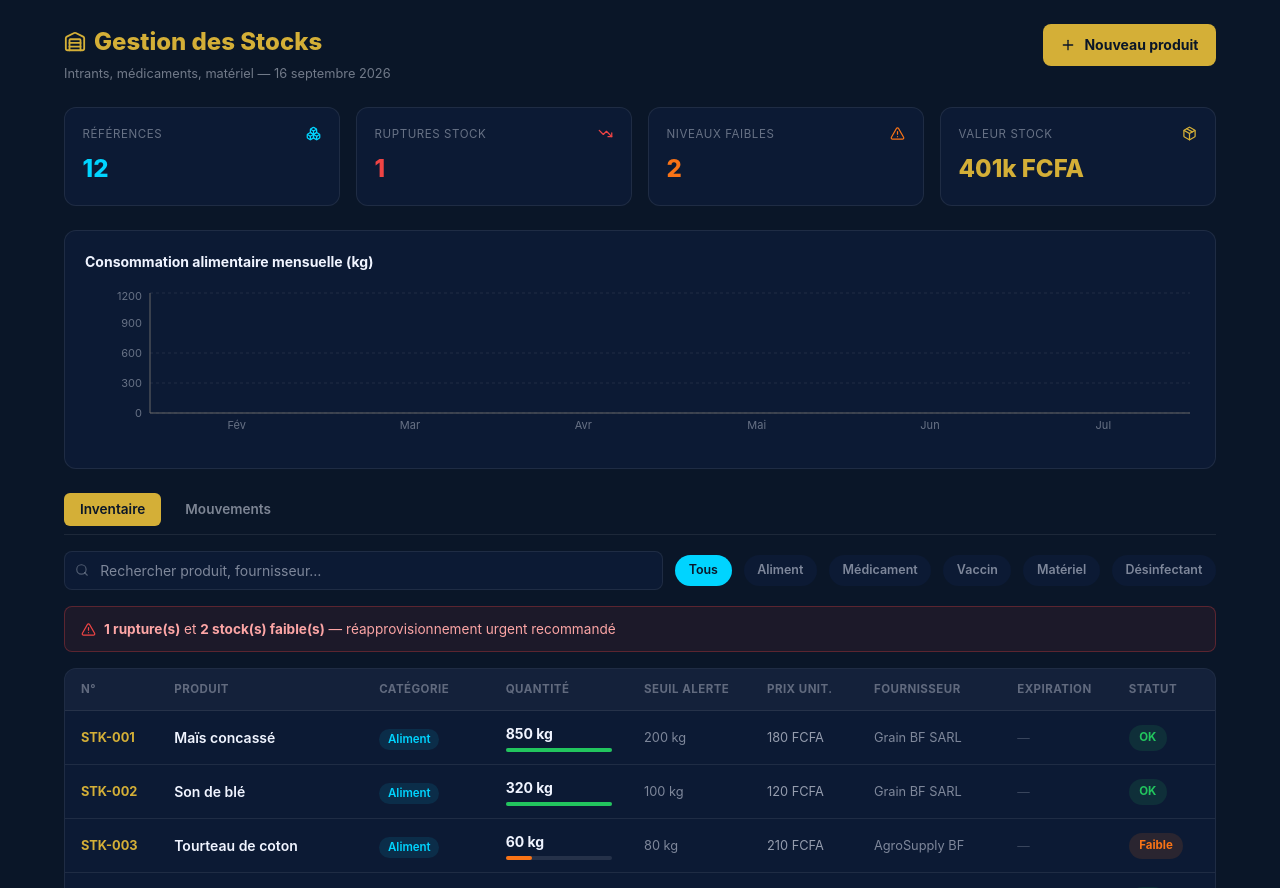
StocksPage › le filtre Vaccin affiche seulement les vaccins
Click the button "Vaccin" at (977, 570), box [943,555,1011,586]
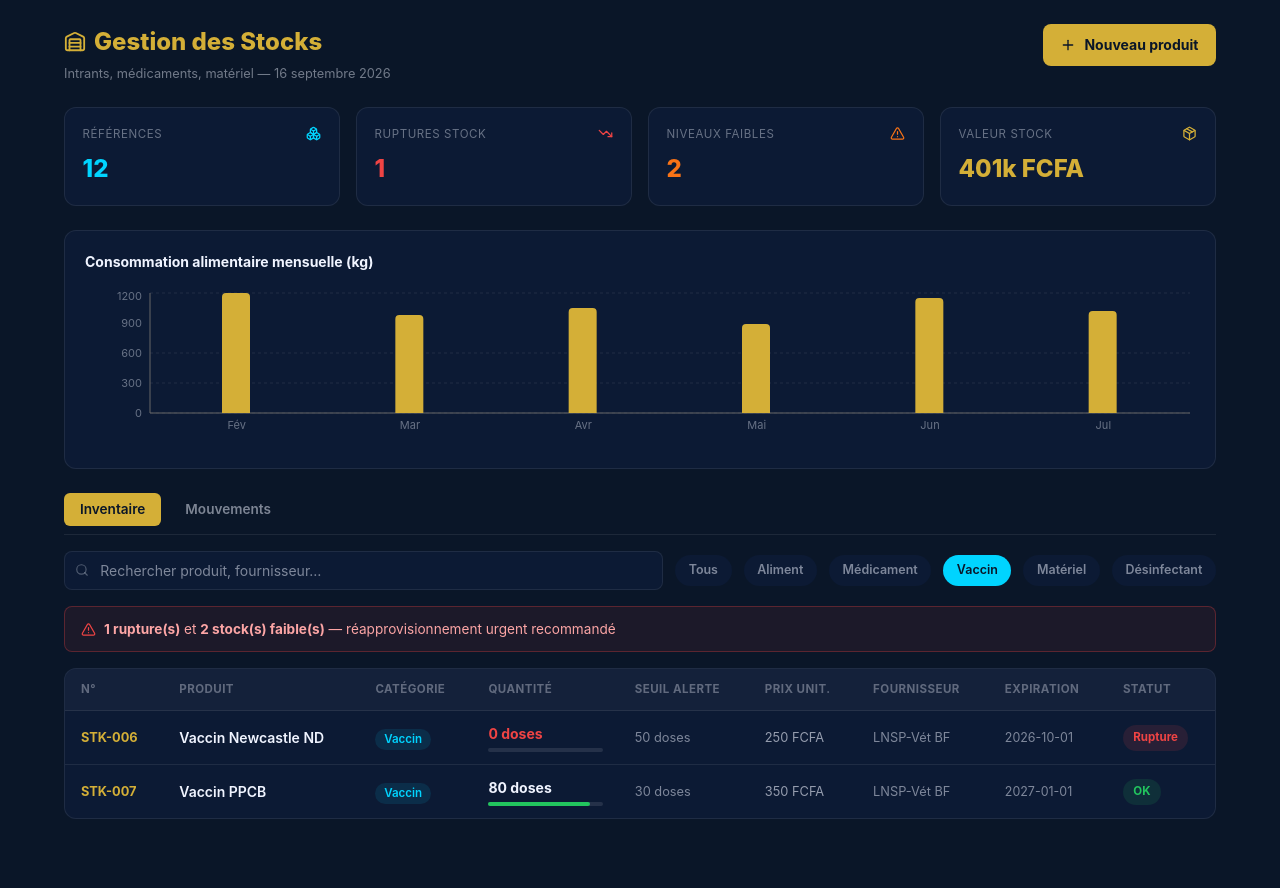
Expected: the text "Vaccin Newcastle ND" is shown, [163,711,359,765]
Expected: the text "Maïs concassé" is gone
